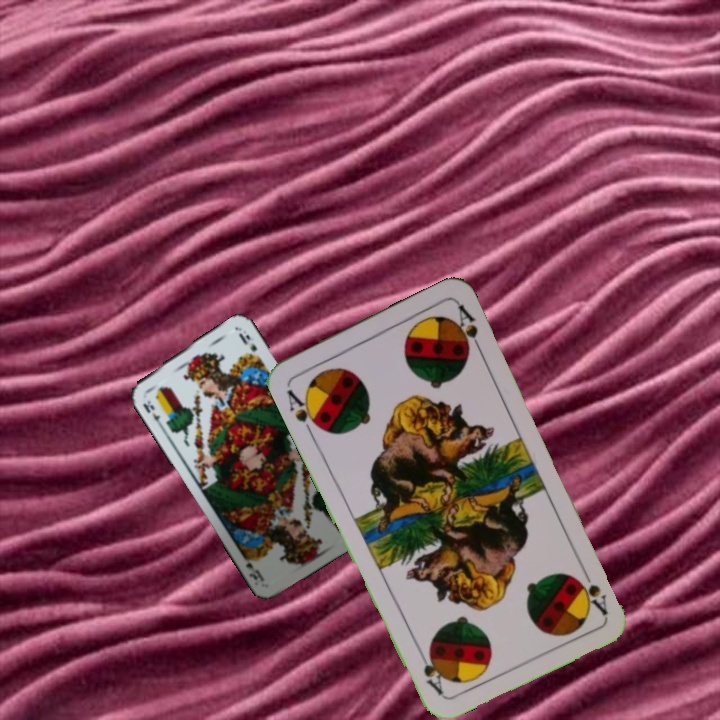EK: (139, 396, 164, 428)
SA: (572, 562, 611, 618), (283, 385, 324, 437)
